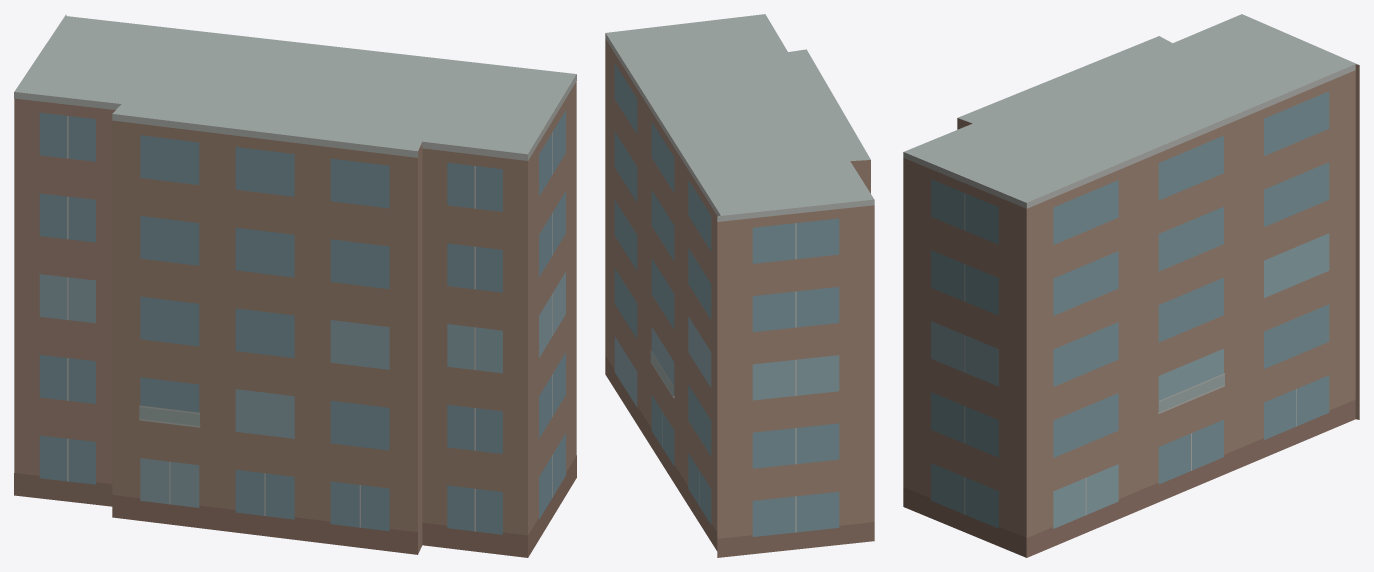
Rendered from survey-upis-32683044.glb.
3 renders of one model, left to right at view 1: azimuth 30°, elevation 25°; view 2: azimuth 150°, elevation 25°; view 3: azimuth 270°, elevation 25°, orthographic. The views are drawn at different scales.
Visible parts, largest first — view 1: survey-upis-32683044.tmp; view 2: survey-upis-32683044.tmp; view 3: survey-upis-32683044.tmp.
Boxes of the visible parts, left/top/right/bottom form: survey-upis-32683044.tmp: left=14, top=14, right=576, bottom=557; survey-upis-32683044.tmp: left=605, top=14, right=874, bottom=557; survey-upis-32683044.tmp: left=903, top=14, right=1359, bottom=557.
Bounding box in the file's own units: 16.91 × 14.8 × 17.24.
